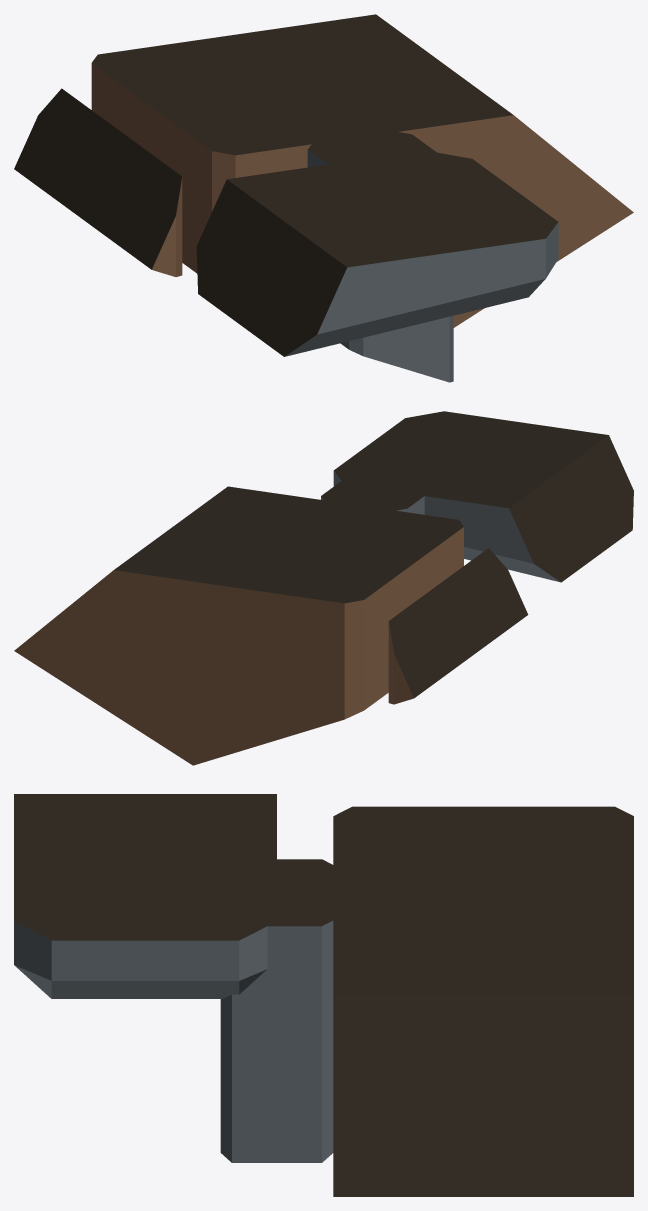
The model's file is SM_DoorShard_01_04.fbx.
3 renders of one model, top to bottom at view 1: azimuth 30°, elevation 25°; view 2: azimuth 150°, elevation 25°; view 3: azimuth 270°, elevation 25°, orthographic. The views are drawn at different scales.
Parts seen in each view (by area): view 1: SM_DoorShard_01_04; view 2: SM_DoorShard_01_04; view 3: SM_DoorShard_01_04.
Part boxes in pixels (x1,y1,x2,y2): SM_DoorShard_01_04: [14, 14, 633, 382]; SM_DoorShard_01_04: [14, 411, 633, 765]; SM_DoorShard_01_04: [14, 794, 633, 1196].
Size of the model in its own units: 32.35 by 33 by 15.61.
